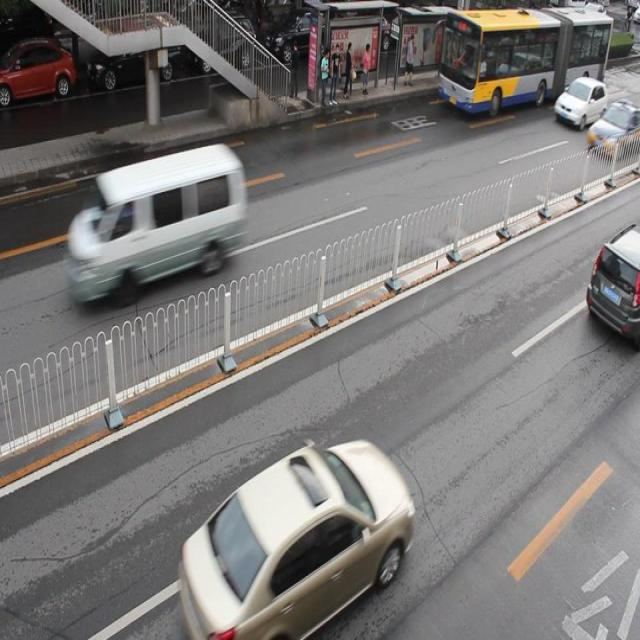car: (179, 437, 412, 640), (584, 223, 640, 345), (86, 29, 180, 91), (1, 38, 76, 105), (187, 9, 256, 70), (263, 8, 332, 61), (586, 98, 640, 159), (554, 74, 606, 129)
truck: (66, 146, 243, 306)
van: (438, 10, 611, 110)
